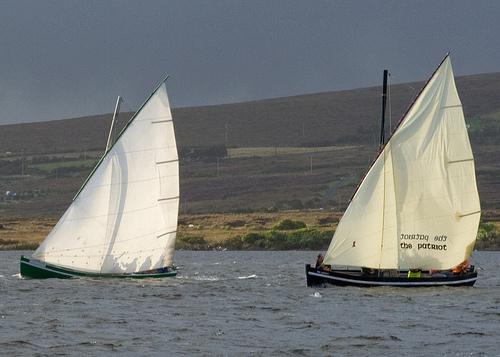Ship: (305, 52, 483, 288), (20, 80, 181, 281)
